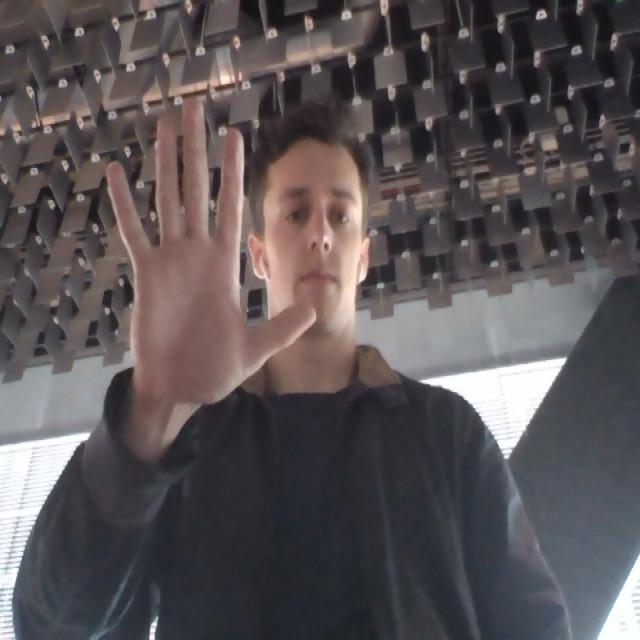backward: (100, 86, 325, 410)
